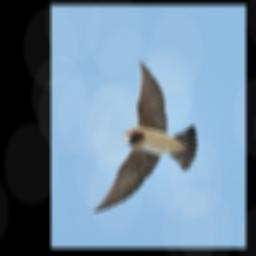Swallow: (76, 56, 205, 215)
